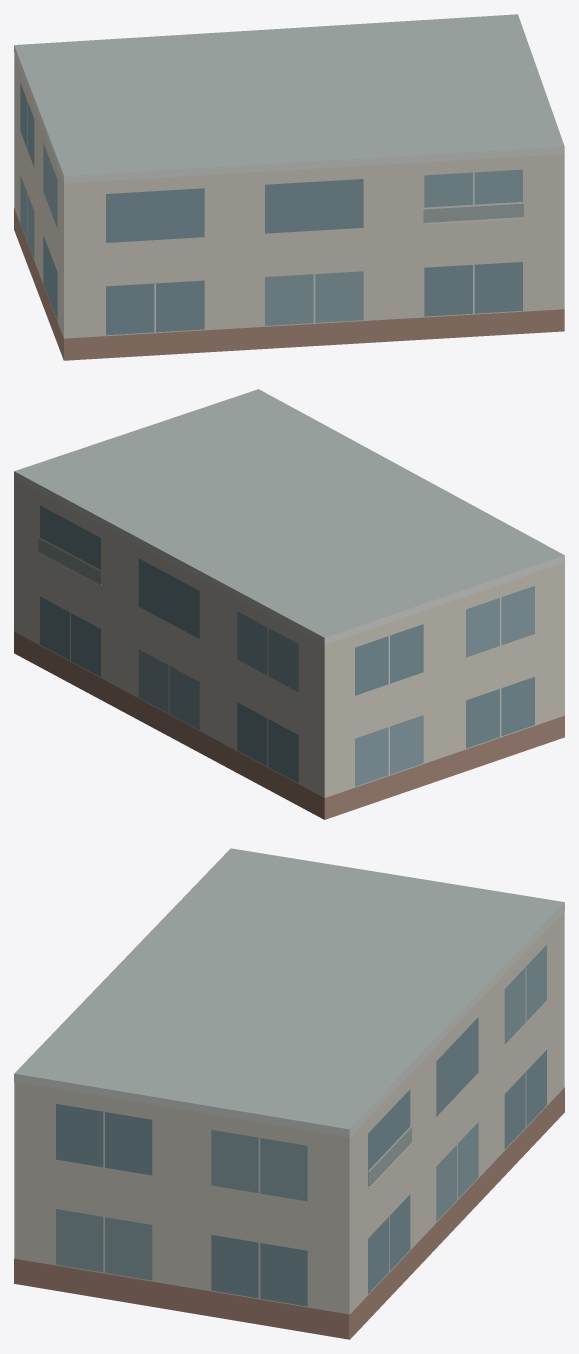
File: survey-upis-32661351.glb
3 renders of one model, top to bottom at view 1: azimuth 30°, elevation 25°; view 2: azimuth 150°, elevation 25°; view 3: azimuth 270°, elevation 25°, orthographic. The views are drawn at different scales.
Visible parts, largest first — view 1: survey-upis-32661351.tmp; view 2: survey-upis-32661351.tmp; view 3: survey-upis-32661351.tmp.
Part boxes in pixels (x1,y1,x2,y2): survey-upis-32661351.tmp: (14,14,564,360); survey-upis-32661351.tmp: (14,389,564,819); survey-upis-32661351.tmp: (14,848,564,1339).
Size of the model in its own units: 17.52 by 6.1 by 14.5.
